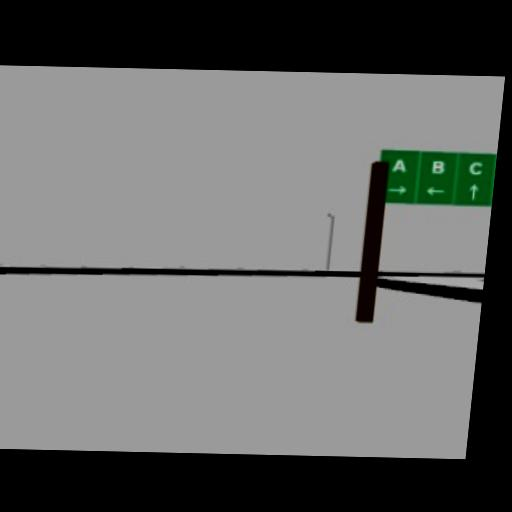A: (391, 157, 407, 172)
B: (430, 159, 446, 173)
C: (468, 160, 484, 174)
Left: (425, 184, 445, 194)
Right: (386, 183, 406, 193)
Straight: (468, 181, 479, 199)
